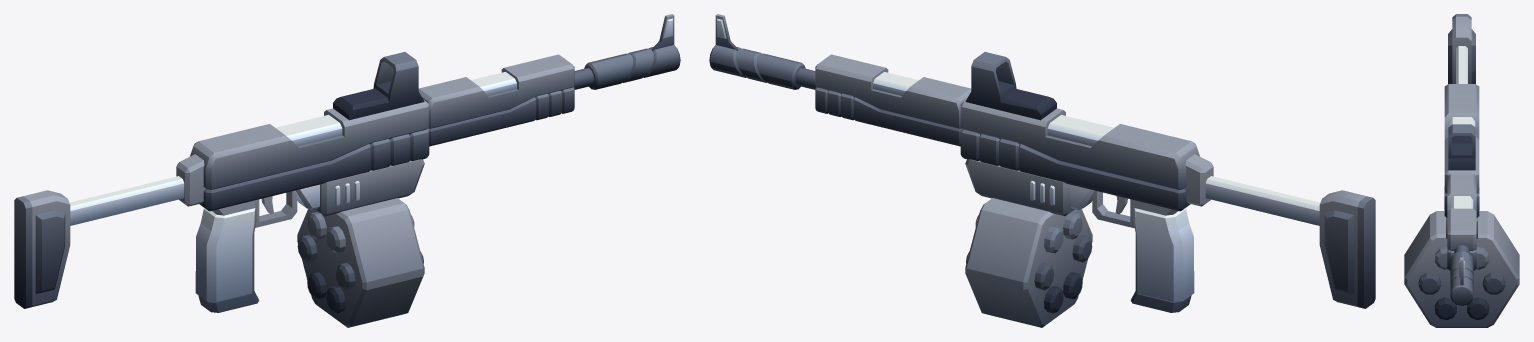
File: Weapon6.FBX
The picture shows the model from 3 angles, left to right: view 1: azimuth 30°, elevation 25°; view 2: azimuth 150°, elevation 25°; view 3: azimuth 270°, elevation 25°; orthographic projection. The views are drawn at different scales.
Visible parts, largest first — view 1: Box046; view 2: Box046; view 3: Box046.
Part boxes in pixels (x1,y1,x2,y2): Box046: [14, 14, 680, 327]; Box046: [709, 14, 1375, 327]; Box046: [1404, 14, 1519, 327].
Bounding box in the file's own units: 66.49 × 23.49 × 12.02.
